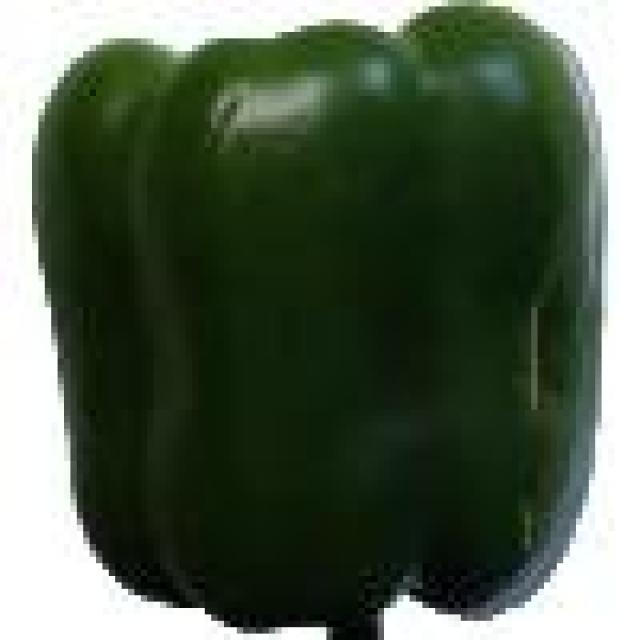Bell Pepper: (32, 6, 602, 634)
